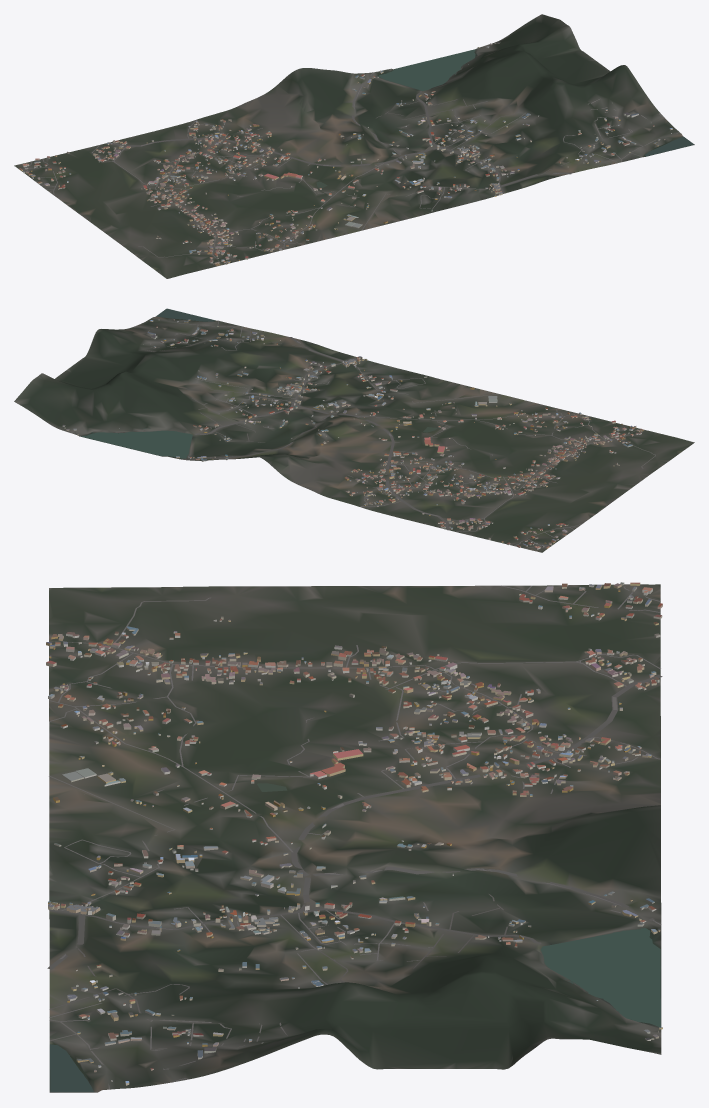
3 views of the same model, one above another, from view 1: azimuth 30°, elevation 25°; view 2: azimuth 150°, elevation 25°; view 3: azimuth 270°, elevation 25° (orthographic). The views are drawn at different scales.
Parts seen in each view (by area): view 1: ground, buildings, roads, water; view 2: ground, buildings, roads, water; view 3: ground, buildings, roads, water.
Part boxes in pixels (x1,y1,x2,y2): ground: (14,14,694,278); buildings: (19,42,672,265); roads: (25,72,679,264); water: (316,49,693,188); ground: (14,309,694,552); buildings: (62,319,643,549); roads: (134,318,655,548); water: (81,308,437,458); ground: (49,584,661,1092); buildings: (46,582,662,1085); roads: (47,585,662,1089); water: (50,783,660,1091).
Bounding box in the file's own units: 2800 × 180 × 1414.
